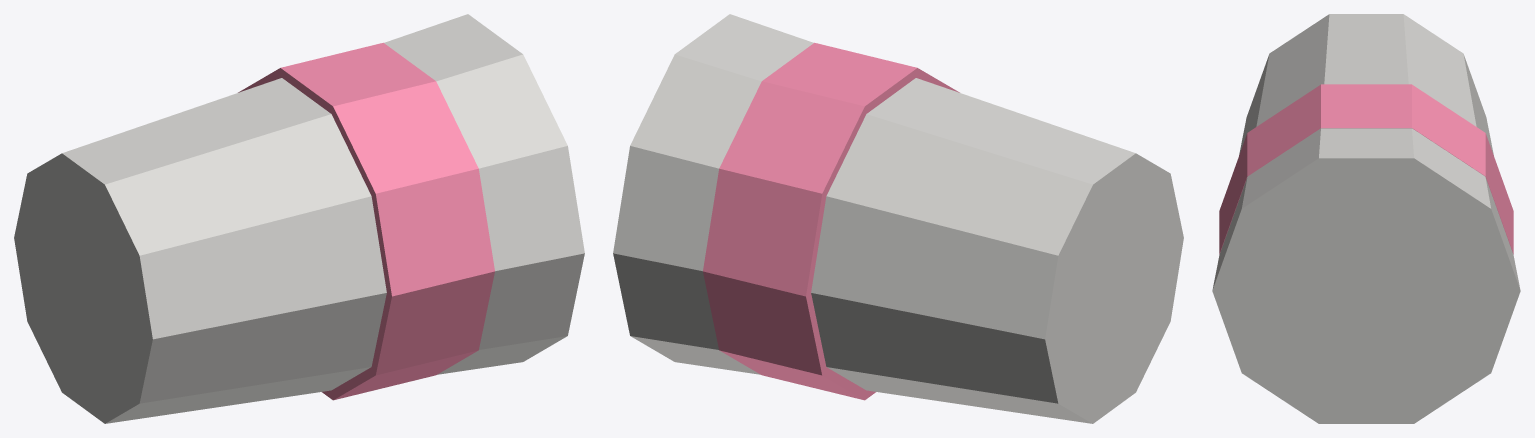
Rendered from DebrisCup.fbx.
3 views of the same model, side by side, from view 1: azimuth 30°, elevation 25°; view 2: azimuth 150°, elevation 25°; view 3: azimuth 270°, elevation 25° (orthographic). The views are drawn at different scales.
Visible parts, largest first — view 1: DebrisCup; view 2: DebrisCup; view 3: DebrisCup.
Part boxes in pixels (x1,y1,x2,y2): DebrisCup: (14, 14, 584, 423); DebrisCup: (613, 14, 1183, 423); DebrisCup: (1212, 14, 1520, 423).
Size of the model in its own units: 0.12 by 0.0856 by 0.09.
